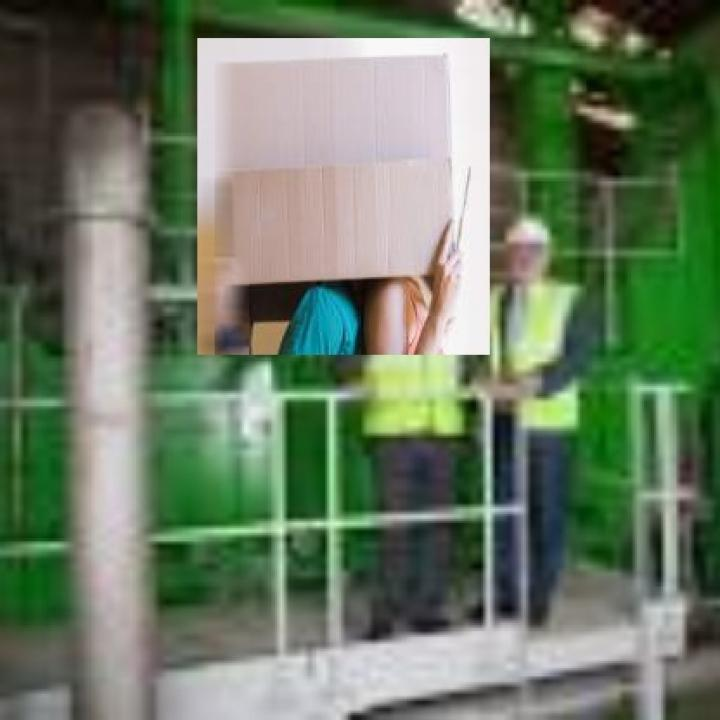box: (193, 34, 496, 361)
